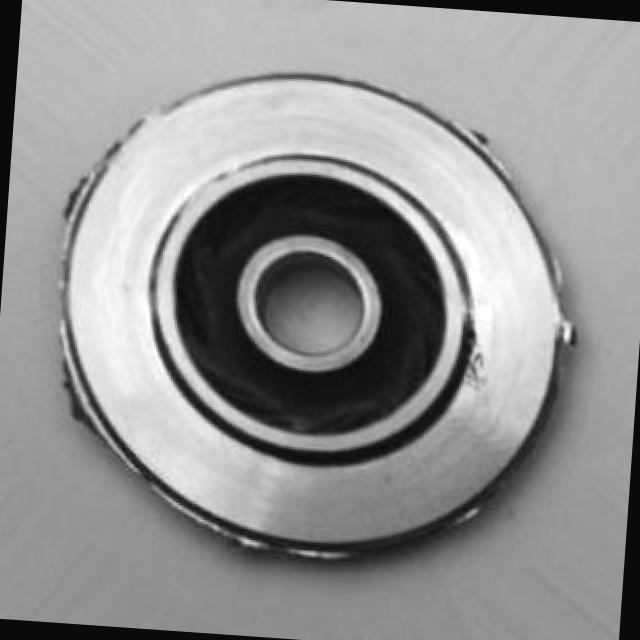Defect: (548, 304, 590, 355), (456, 330, 488, 390)
